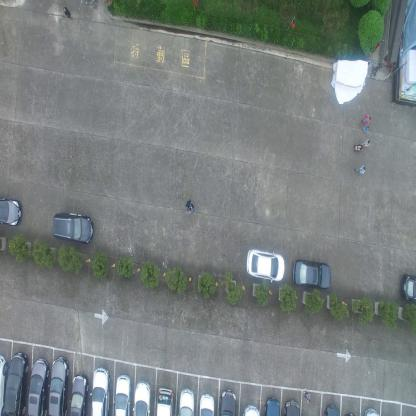car: (3, 351, 29, 415), (245, 247, 285, 283), (50, 213, 93, 245), (291, 257, 331, 290), (48, 356, 70, 416), (27, 357, 49, 415), (90, 366, 111, 415), (69, 372, 89, 415), (114, 372, 132, 415), (0, 196, 23, 227), (134, 381, 152, 415), (155, 386, 173, 416), (0, 352, 8, 415), (400, 272, 416, 303), (219, 388, 237, 415), (177, 388, 195, 415), (198, 392, 216, 415), (283, 398, 301, 416), (264, 395, 280, 415), (242, 403, 260, 415), (324, 404, 341, 415)
